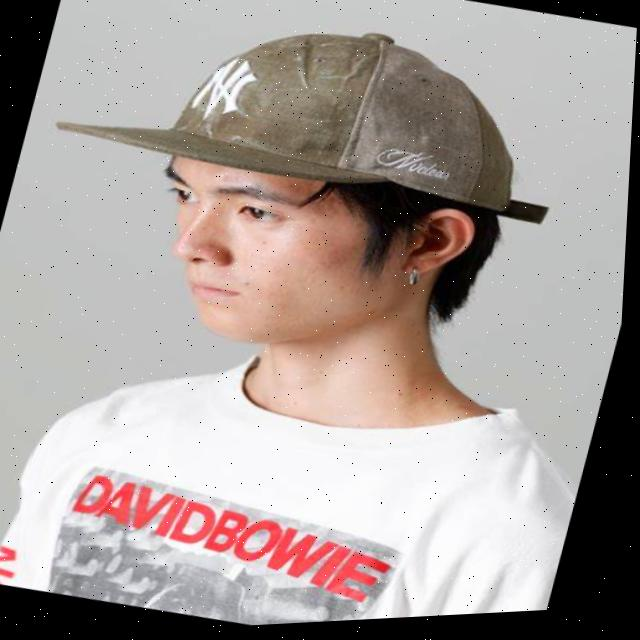illegal_helmet: (0, 0, 586, 415)
